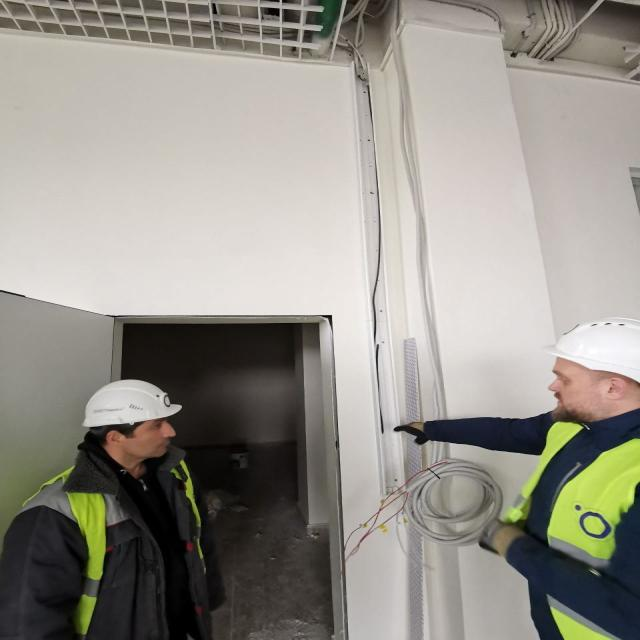Helmet: (543, 320, 640, 383), (84, 381, 184, 431)
Jacket: (32, 460, 206, 630), (530, 416, 640, 631)
